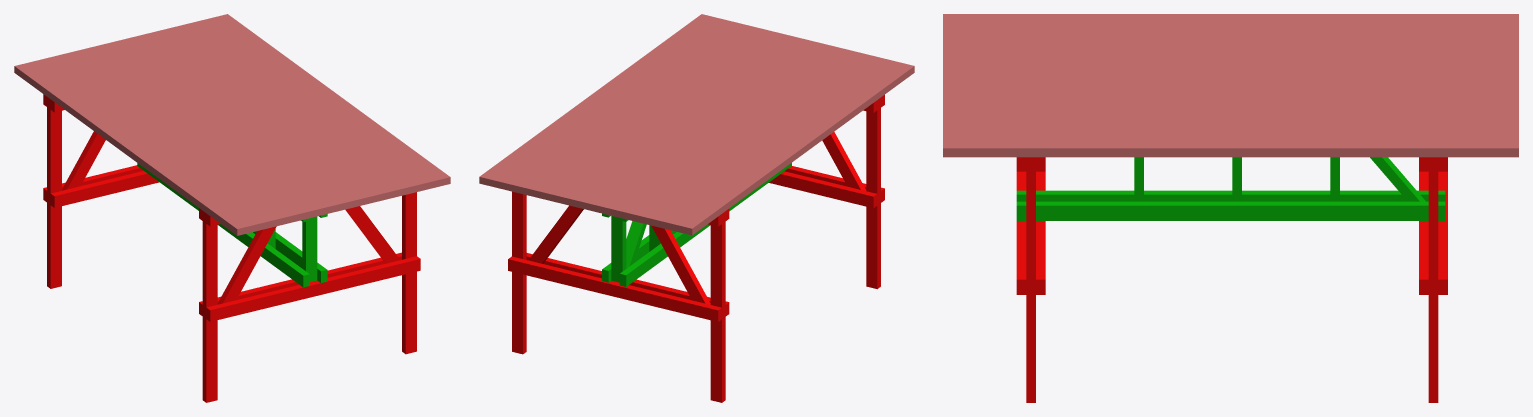
The model's file is result.glb.
The picture shows the model from 3 angles, left to right: view 1: azimuth 30°, elevation 25°; view 2: azimuth 150°, elevation 25°; view 3: azimuth 270°, elevation 25°; orthographic projection. The views are drawn at different scales.
Parts seen in each view (by area): view 1: 9a409a18-e498-47e3-a556-0b255e4c2581__Box, bb199acd-8cfb-4d9c-be9e-d7c1fd555928__sideH, 5d893a75-6402-4f1e-8eb7-13910e20d587__sideV, a6ae2e7f-de39-493d-992f-65b82405d16e__undefined, b7f7c247-d1a6-4ba8-80de-2c9bbd223760__undefined, af0bc77b-b506-4dc0-b4cb-d757f67aa228__undefined, 5f6bce2e-fbc3-4d57-a504-bcd73d951d05__undefined, da0c746d-2fe1-4d4a-a25a-8e94f982e819__undefined, 1b0ace09-ae28-4f8b-8f45-f51c90a0bc7c__undefined, d1067ba7-de43-424a-ae37-f922374973e8__undefined, 46e29e69-5175-4393-a1e2-45004b009c07__undefined, 7c338e8a-60e5-4426-b047-c85afe81db7c__undefined (+20 smaller); view 2: 9a409a18-e498-47e3-a556-0b255e4c2581__Box, 55caf00e-5960-494d-ad85-76ce2dbdba7f__undefined, 5102e50f-c6d9-442e-bfc2-33e0d84f9655__undefined, 46e29e69-5175-4393-a1e2-45004b009c07__undefined, 2b5a199e-5174-462d-94b2-6fc43e3853f4__undefined, af0bc77b-b506-4dc0-b4cb-d757f67aa228__undefined, 4704996c-df4e-4b25-9cca-16a2aba5e050__undefined, a6ae2e7f-de39-493d-992f-65b82405d16e__undefined, d339012e-420e-4049-859b-38ae7836ba23__undefined, 5f6bce2e-fbc3-4d57-a504-bcd73d951d05__undefined, 1b0ace09-ae28-4f8b-8f45-f51c90a0bc7c__undefined, b7f7c247-d1a6-4ba8-80de-2c9bbd223760__undefined (+21 smaller); view 3: 1b0ace09-ae28-4f8b-8f45-f51c90a0bc7c__undefined, 5e16c72f-7f04-4a08-bdb0-6daeaf2ffaf4__strutH, 6a357012-cf59-4366-8d31-9b18dc8a0337__undefined, 096c6645-1c4a-473f-918f-37600258f6b6__undefined, b7f7c247-d1a6-4ba8-80de-2c9bbd223760__undefined, 4704996c-df4e-4b25-9cca-16a2aba5e050__undefined, f6ff6555-82ff-4b34-bb2e-0feec6e71387__undefined, 806b4dd4-40b3-46c9-a98c-35e5479300ac__undefined, af0bc77b-b506-4dc0-b4cb-d757f67aa228__undefined, 46e29e69-5175-4393-a1e2-45004b009c07__undefined, 46e2f810-ebab-4f2a-9ee2-c5f26f6ca0b5__undefined, da0c746d-2fe1-4d4a-a25a-8e94f982e819__undefined (+16 smaller).
Part boxes in pixels (x1,y1,x2,y2): 9a409a18-e498-47e3-a556-0b255e4c2581__Box: (14,63,248,235); bb199acd-8cfb-4d9c-be9e-d7c1fd555928__sideH: (206,256,420,321); 5d893a75-6402-4f1e-8eb7-13910e20d587__sideV: (202,211,217,402); a6ae2e7f-de39-493d-992f-65b82405d16e__undefined: (138,33,371,205); b7f7c247-d1a6-4ba8-80de-2c9bbd223760__undefined: (59,52,293,224); af0bc77b-b506-4dc0-b4cb-d757f67aa228__undefined: (104,41,338,213); 5f6bce2e-fbc3-4d57-a504-bcd73d951d05__undefined: (160,27,394,200); da0c746d-2fe1-4d4a-a25a-8e94f982e819__undefined: (183,22,416,194); 1b0ace09-ae28-4f8b-8f45-f51c90a0bc7c__undefined: (217,14,450,186); d1067ba7-de43-424a-ae37-f922374973e8__undefined: (26,60,259,232); 46e29e69-5175-4393-a1e2-45004b009c07__undefined: (116,38,349,211); 7c338e8a-60e5-4426-b047-c85afe81db7c__undefined: (205,16,439,189); 9a409a18-e498-47e3-a556-0b255e4c2581__Box: (681,63,914,235); 55caf00e-5960-494d-ad85-76ce2dbdba7f__undefined: (508,256,721,321); 5102e50f-c6d9-442e-bfc2-33e0d84f9655__undefined: (710,211,725,402); 46e29e69-5175-4393-a1e2-45004b009c07__undefined: (580,38,813,210); 2b5a199e-5174-462d-94b2-6fc43e3853f4__undefined: (546,30,779,202); af0bc77b-b506-4dc0-b4cb-d757f67aa228__undefined: (591,41,824,213); 4704996c-df4e-4b25-9cca-16a2aba5e050__undefined: (625,49,857,221); a6ae2e7f-de39-493d-992f-65b82405d16e__undefined: (557,33,790,205); d339012e-420e-4049-859b-38ae7836ba23__undefined: (501,19,734,191); 5f6bce2e-fbc3-4d57-a504-bcd73d951d05__undefined: (535,28,768,199); 1b0ace09-ae28-4f8b-8f45-f51c90a0bc7c__undefined: (479,14,712,186); b7f7c247-d1a6-4ba8-80de-2c9bbd223760__undefined: (636,52,869,224); 1b0ace09-ae28-4f8b-8f45-f51c90a0bc7c__undefined: (943,141,1518,157); 5e16c72f-7f04-4a08-bdb0-6daeaf2ffaf4__strutH: (1016,201,1445,220); 6a357012-cf59-4366-8d31-9b18dc8a0337__undefined: (943,28,1518,35); 096c6645-1c4a-473f-918f-37600258f6b6__undefined: (943,35,1518,42); b7f7c247-d1a6-4ba8-80de-2c9bbd223760__undefined: (943,42,1518,49); 4704996c-df4e-4b25-9cca-16a2aba5e050__undefined: (943,49,1518,56); f6ff6555-82ff-4b34-bb2e-0feec6e71387__undefined: (943,56,1518,63); 806b4dd4-40b3-46c9-a98c-35e5479300ac__undefined: (943,63,1518,70); af0bc77b-b506-4dc0-b4cb-d757f67aa228__undefined: (943,70,1518,77); 46e29e69-5175-4393-a1e2-45004b009c07__undefined: (943,77,1518,84); 46e2f810-ebab-4f2a-9ee2-c5f26f6ca0b5__undefined: (943,84,1518,91); da0c746d-2fe1-4d4a-a25a-8e94f982e819__undefined: (943,120,1518,127).
Bounding box in the file's own units: 1216 × 1077 × 2200.
